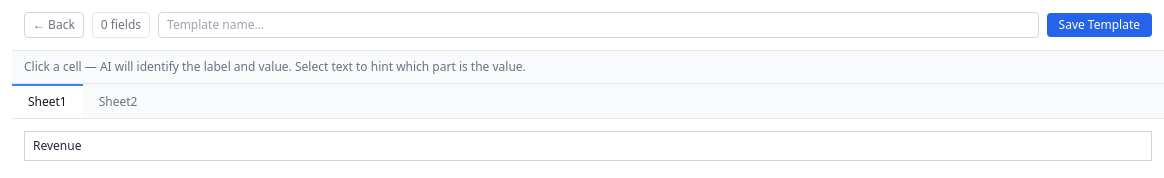
Test: Review XLSX — sheet tabs › switches to second sheet content when its tab is clicked
What coordinates should you click on to do the following:
click the tab "Sheet2"
I would click on:
 (118, 101)
Its box is x1=83 y1=84 x2=154 y2=118.
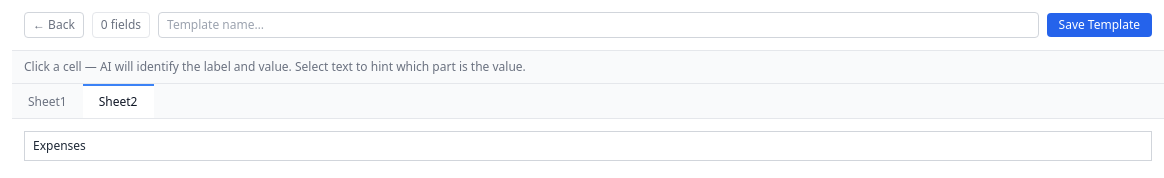
Expected: the element with test id "doc-viewer" reads "Expenses", x1=33 y1=137 x2=86 y2=154
Expected: the cell with test id "doc-viewer" no longer shows "Revenue"
